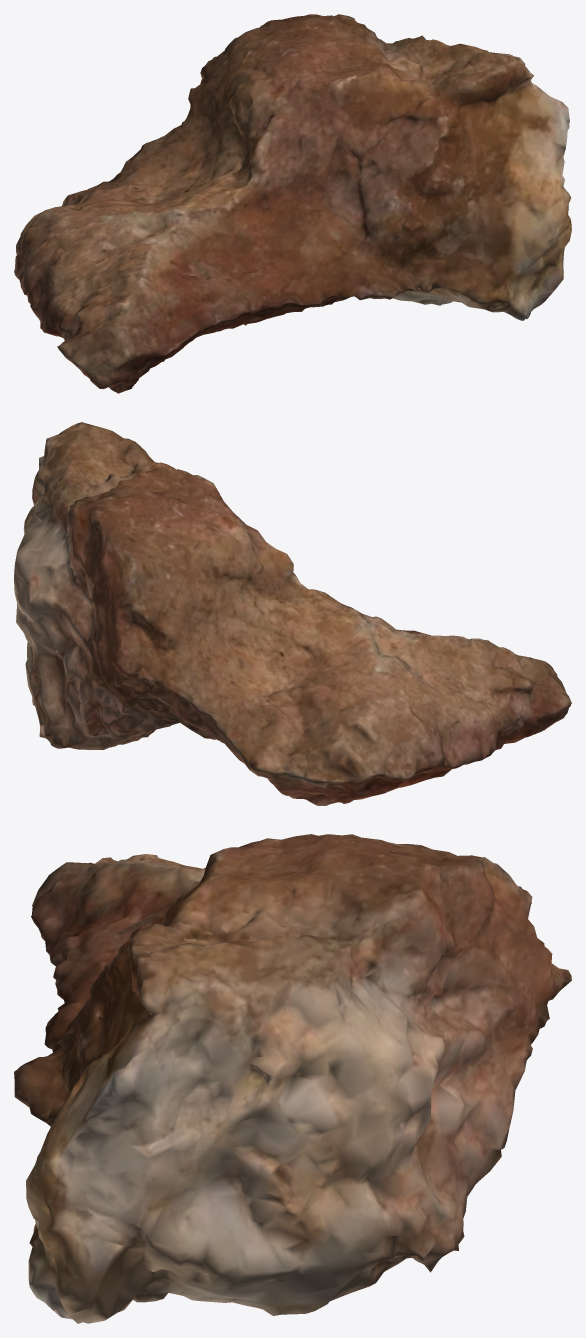
The model's file is stone_01.glb.
3 renders of one model, top to bottom at view 1: azimuth 30°, elevation 25°; view 2: azimuth 150°, elevation 25°; view 3: azimuth 270°, elevation 25°, orthographic. The views are drawn at different scales.
Parts seen in each view (by area): view 1: stone_01; view 2: stone_01; view 3: stone_01.
Boxes of the visible parts, box(x1,y1,x2,y2) form: stone_01: box(14, 14, 571, 393); stone_01: box(14, 422, 571, 805); stone_01: box(14, 834, 571, 1323).
Size of the model in its own units: 0.1469 by 0.0718 by 0.089.
Materials: 1 (1 with a texture image).
